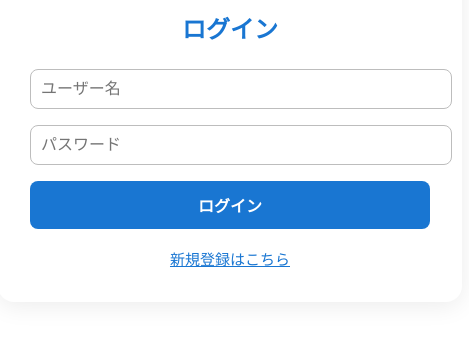
it: Login › 通信エラー時にエラーメッセージが表示される
Type "user" into the field with placeholder "ユーザー名" at (241, 89), box [30, 69, 452, 109]
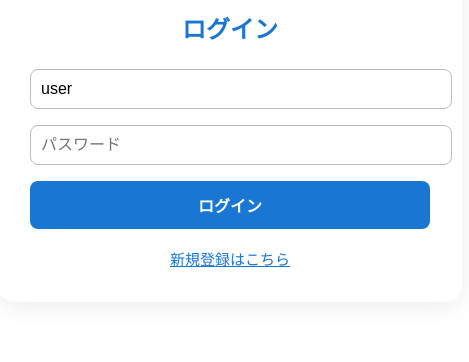
Type "pass" into the password field with placeholder "パスワード" at (241, 145), box [30, 125, 452, 165]
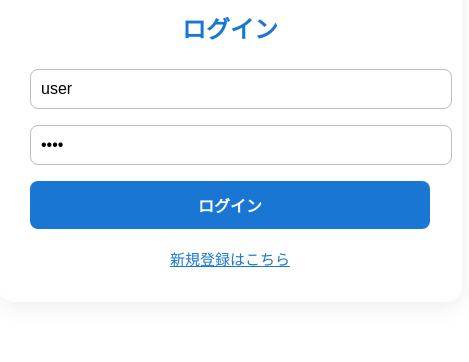
Click the button "ログイン" at (230, 205), box [30, 181, 430, 229]
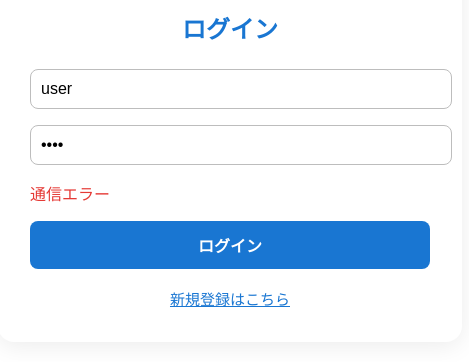
Expected: the text "通信エラー" is shown, [30, 186, 110, 203]
